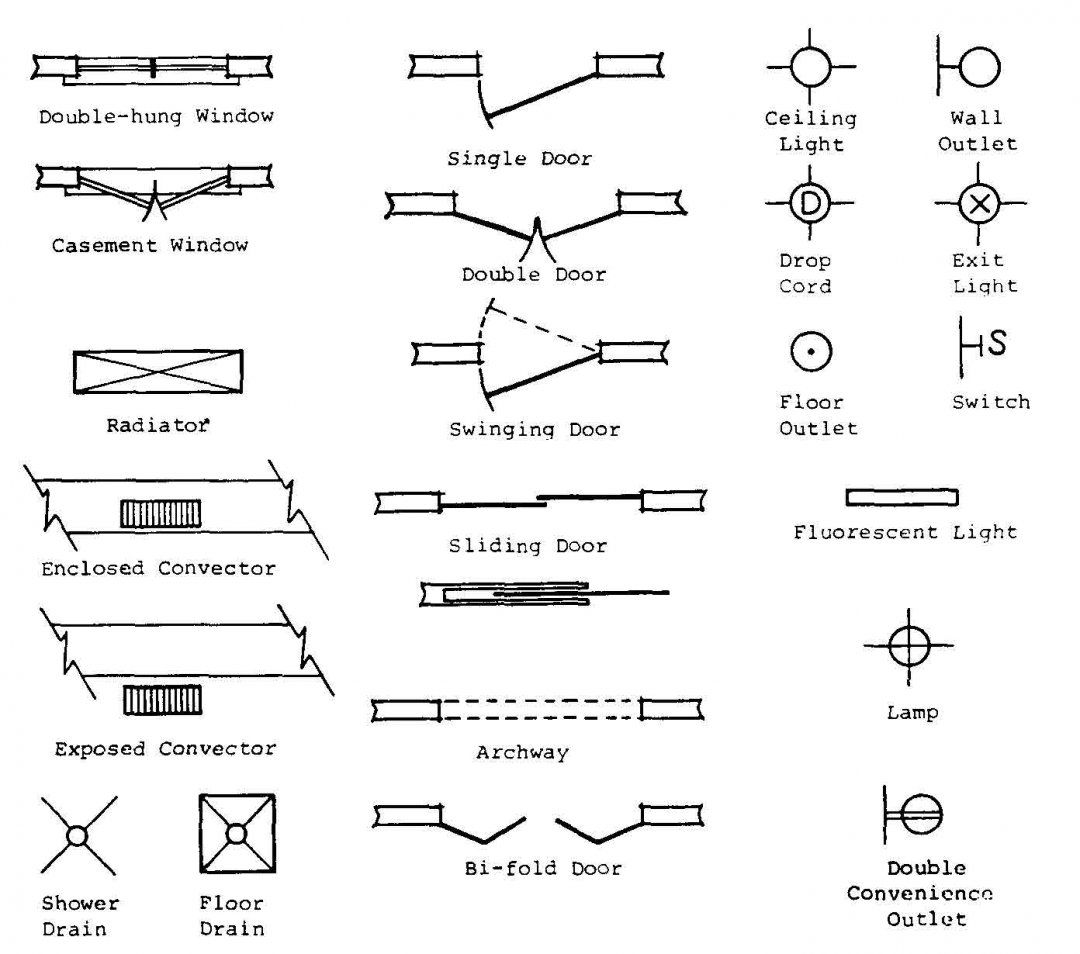door: (393, 293, 679, 408), (360, 768, 723, 855), (376, 175, 701, 268), (389, 28, 679, 130), (355, 452, 724, 530)
window: (26, 149, 296, 227), (11, 28, 301, 96)
